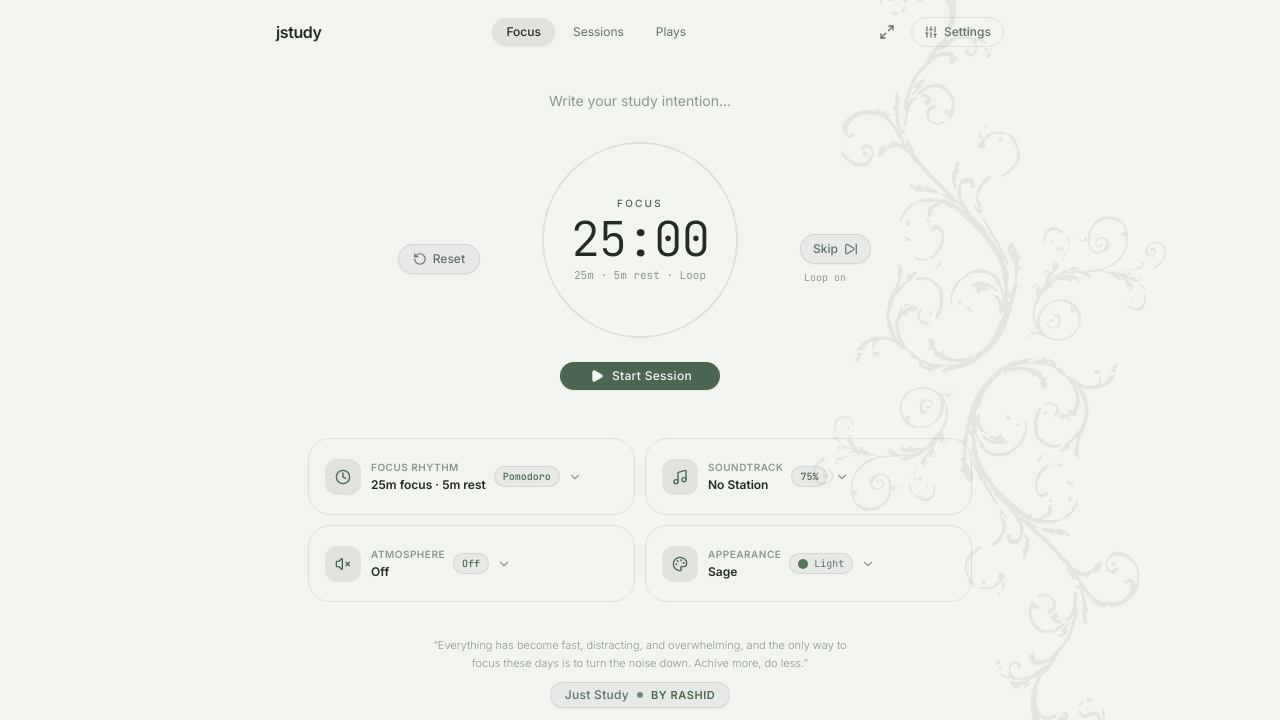
Test case: App React Component Integration › opens settings modal with timer durations and soundtrack settings
Click the button titled "Open Settings" at [957, 32], box 911,17 -> 1004,47
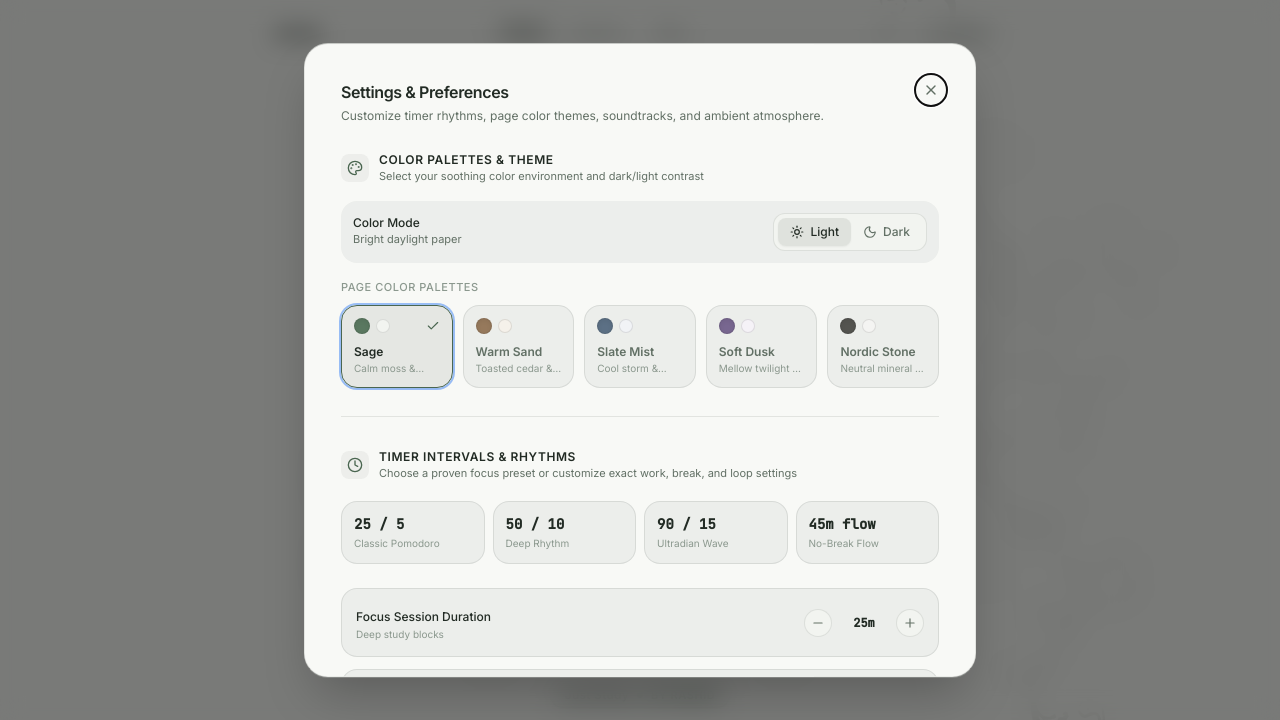
expect the heading "Timer Intervals & Rhythms" is shown: met, box 379,449 -> 576,464
expect the heading "Color Palettes & Theme" is shown: met, box 379,152 -> 554,167
